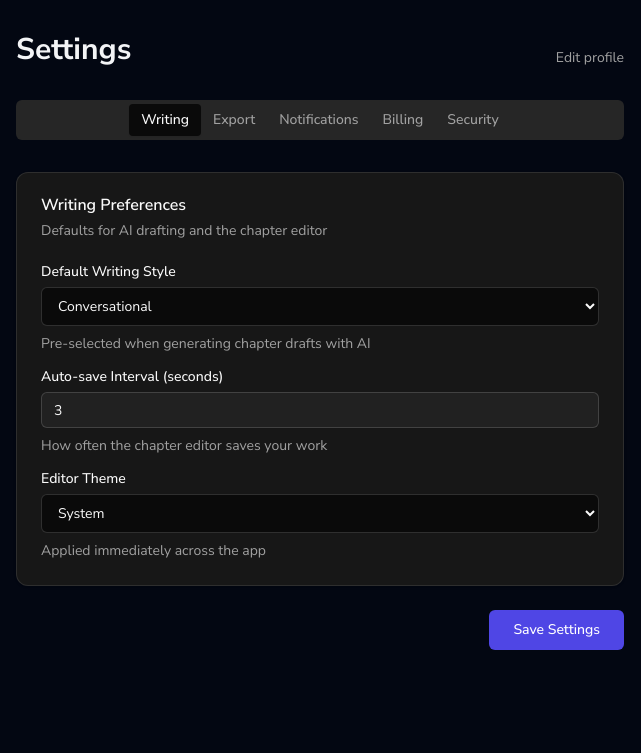
SettingsPage › renders security sections without the shared Save button
Expected: the button "Save Settings" is enabled, x1=489 y1=610 x2=624 y2=650
Click the tab "Security" at {"x": 473, "y": 120}, box x1=435 y1=104 x2=511 y2=136
(page scrolled)
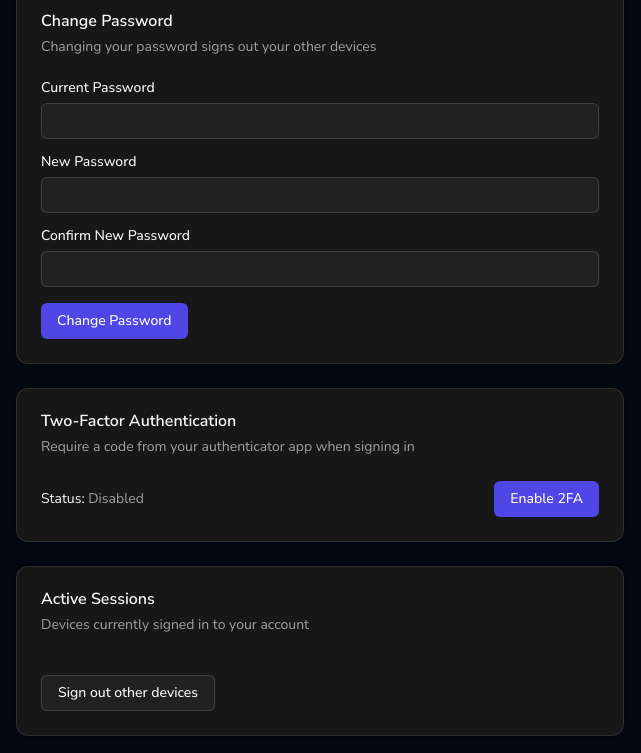
Expected: the password field labelled "Current Password" is shown, x1=41 y1=103 x2=599 y2=139
Expected: the text "Two-Factor Authentication" is shown, x1=41 y1=410 x2=236 y2=432
Expected: the text "Active Sessions" is shown, x1=41 y1=588 x2=155 y2=610
